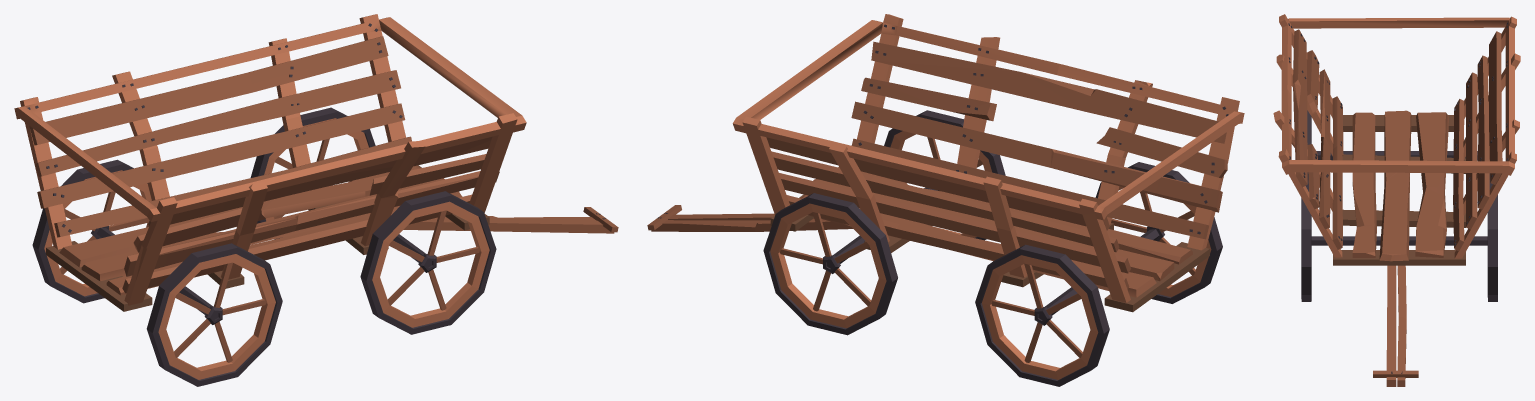
File: Cart_1.fbx
3 renders of one model, left to right at view 1: azimuth 30°, elevation 25°; view 2: azimuth 150°, elevation 25°; view 3: azimuth 270°, elevation 25°, orthographic. The views are drawn at different scales.
Visible parts, largest first — view 1: Cart_1; view 2: Cart_1; view 3: Cart_1.
Boxes of the visible parts, box(x1,y1,x2,y2) form: Cart_1: box(14, 14, 618, 386); Cart_1: box(647, 14, 1244, 386); Cart_1: box(1273, 14, 1520, 386).
Bounding box in the file's own units: 3.81 × 1.44 × 1.9.
